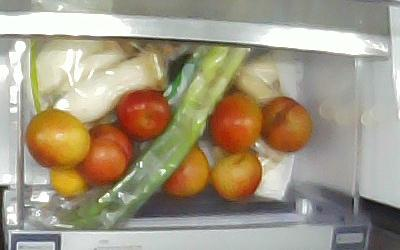prune: (25, 108, 90, 168), (206, 89, 263, 152), (75, 123, 133, 183), (259, 95, 312, 152), (209, 146, 262, 201), (114, 88, 171, 139), (160, 143, 210, 198)
tangerine: (48, 164, 89, 197)
